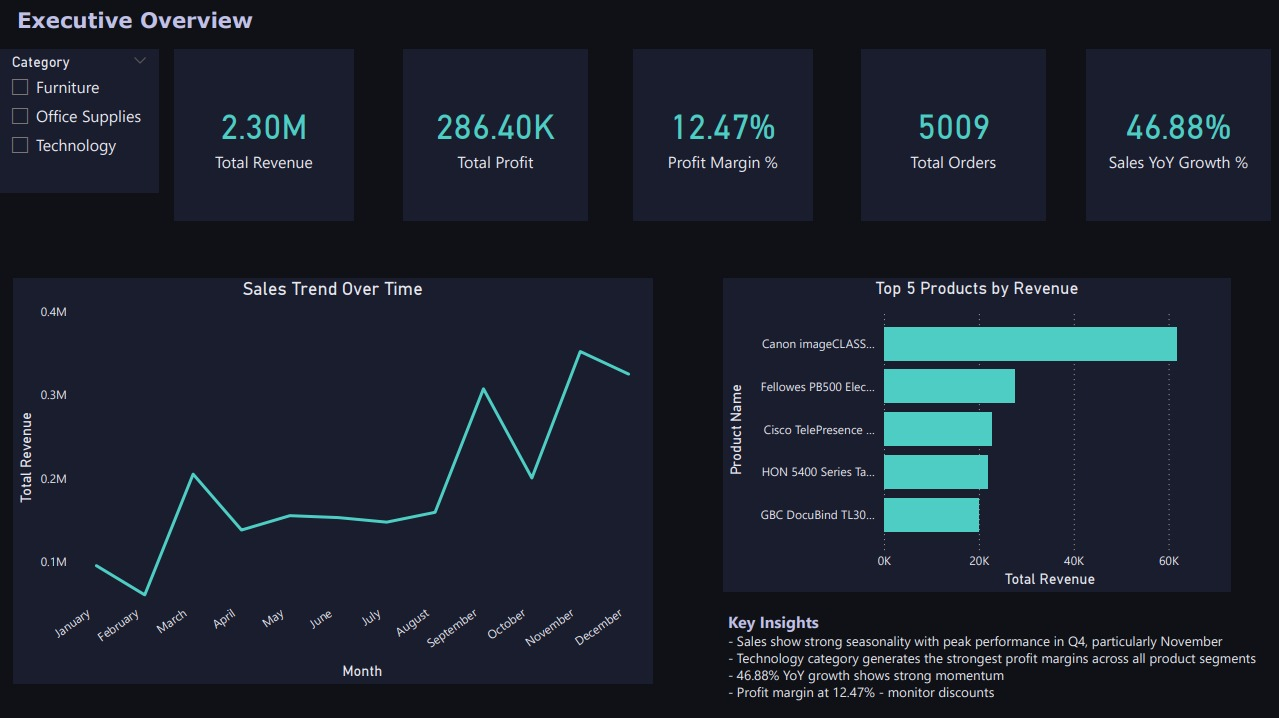

What the dashboard file says about the page in this screenshot:
{"tool":"powerbi","page":{"name":"Executive Overview","canvas":[1280,720],"ordinal":1},"visuals":[{"type":"card","fields":{"Values":["Sample - Superstore.Total Revenue"]},"box":[175,49,180,172],"z":0},{"type":"card","fields":{"Values":["Sample - Superstore.Total Profit"]},"box":[404,49,185,172],"z":1000},{"type":"card","fields":{"Values":["Sample - Superstore.Profit Margin %"]},"box":[634,49,180,172],"z":2000},{"type":"card","fields":{"Values":["Sample - Superstore.Total Orders"]},"box":[862,49,185,172],"z":3000},{"type":"card","fields":{"Values":["Sample - Superstore.Sales YoY Growth %"]},"box":[1087,49,185,172],"z":4000},{"type":"lineChart","title":"Sales Trend Over Time","fields":{"Category":["Sample - Superstore.Order Date.Variation.Date Hierarchy.Month"],"Y":["Sample - Superstore.Total Revenue"]},"box":[14,278,640,406],"z":5000},{"type":"barChart","title":"Top 5 Products by Revenue","fields":{"Category":["Sample - Superstore.Product Name"],"Y":["Sample - Superstore.Total Revenue"]},"box":[724,278,508,314],"z":6000},{"type":"textbox","box":[723.7,606,556.7,114.5],"z":7000},{"type":"slicer","fields":{"Values":["Sample - Superstore.Category"]},"box":[0,49,160,144],"z":8000},{"type":"textbox","box":[13,0,277,40],"z":9000}]}

Visuals, with their boxes in screenshot pixels (x1, y1, x2, y2), scaled from the page's 1280x720 canvas onto the 1279x718 screenshot:
card - Sample - Superstore.Total Revenue: [175, 49, 355, 220]
card - Sample - Superstore.Total Profit: [404, 49, 589, 220]
card - Sample - Superstore.Profit Margin %: [634, 49, 813, 220]
card - Sample - Superstore.Total Orders: [861, 49, 1046, 220]
card - Sample - Superstore.Sales YoY Growth %: [1086, 49, 1271, 220]
"Sales Trend Over Time" lineChart: [14, 277, 653, 682]
"Top 5 Products by Revenue" barChart: [723, 277, 1231, 590]
textbox: [723, 604, 1278, 717]
slicer - Sample - Superstore.Category: [0, 49, 160, 192]
textbox: [13, 0, 290, 40]
